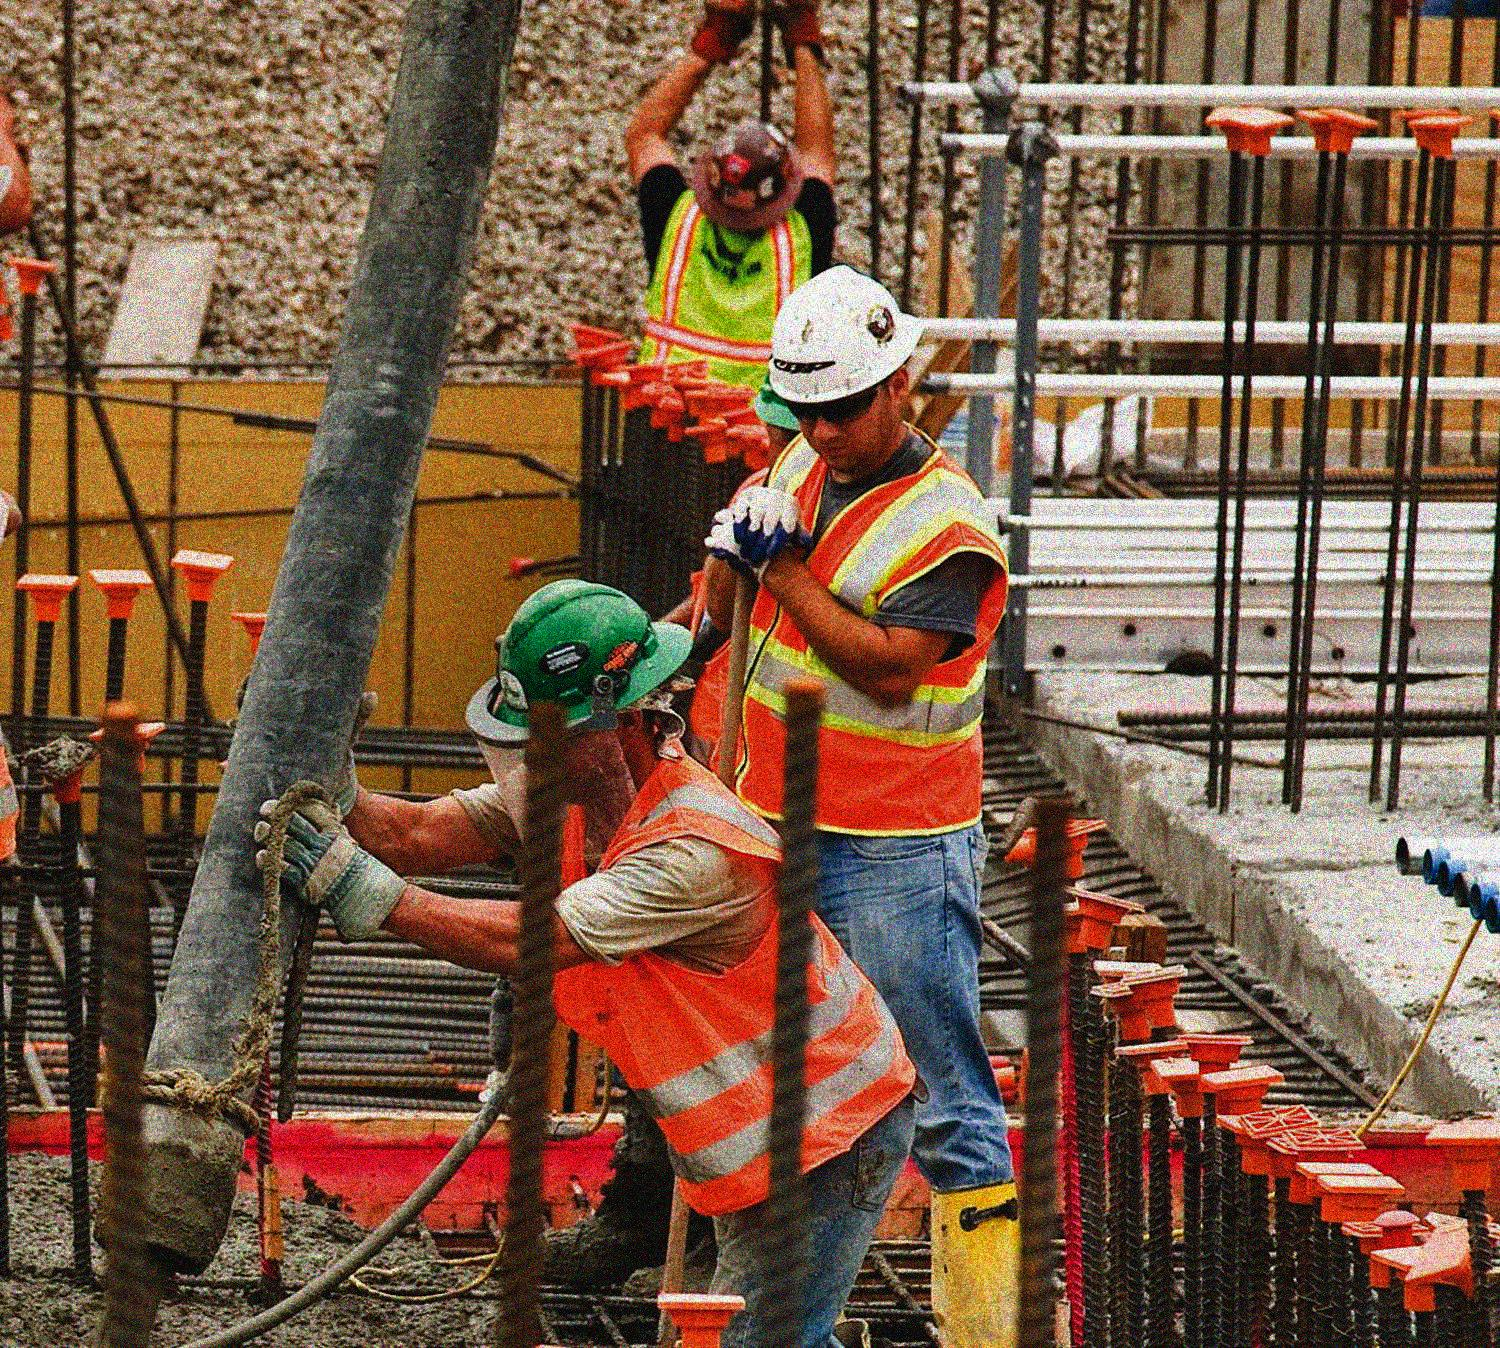helmet: (461, 563, 703, 800), (753, 263, 926, 479), (684, 117, 809, 239)
